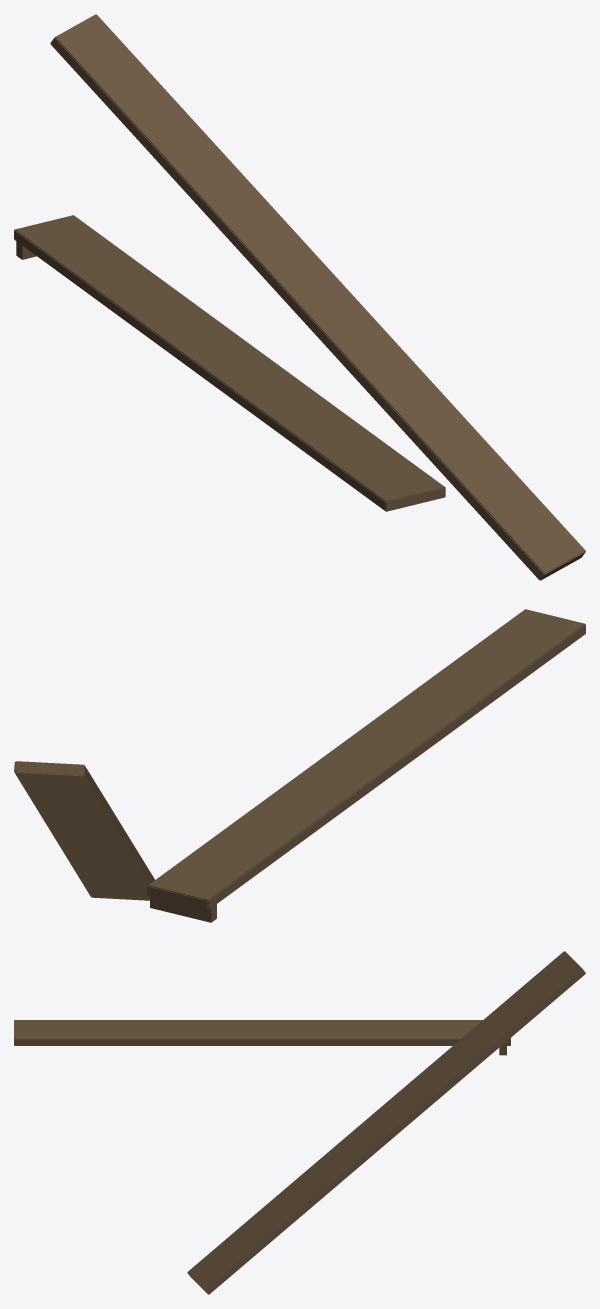
The model's file is plank_over_ditch.glb.
3 renders of one model, top to bottom at view 1: azimuth 30°, elevation 25°; view 2: azimuth 150°, elevation 25°; view 3: azimuth 270°, elevation 25°, orthographic. The views are drawn at different scales.
Parts seen in each view (by area): view 1: plank_dropped, plank; view 2: plank, plank_dropped, cleat; view 3: plank_dropped, plank.
Part boxes in pixels (box(x1,y1,x2,y2)): plank_dropped: box(50, 14, 585, 580); plank: box(14, 215, 445, 511); plank: box(147, 609, 585, 910); plank_dropped: box(14, 761, 154, 900); cleat: box(150, 896, 216, 922); plank_dropped: box(187, 951, 585, 1294); plank: box(14, 1020, 510, 1045).
Size of what is drawn, in the model's own units: 1.71 by 1.84 by 3.68.
